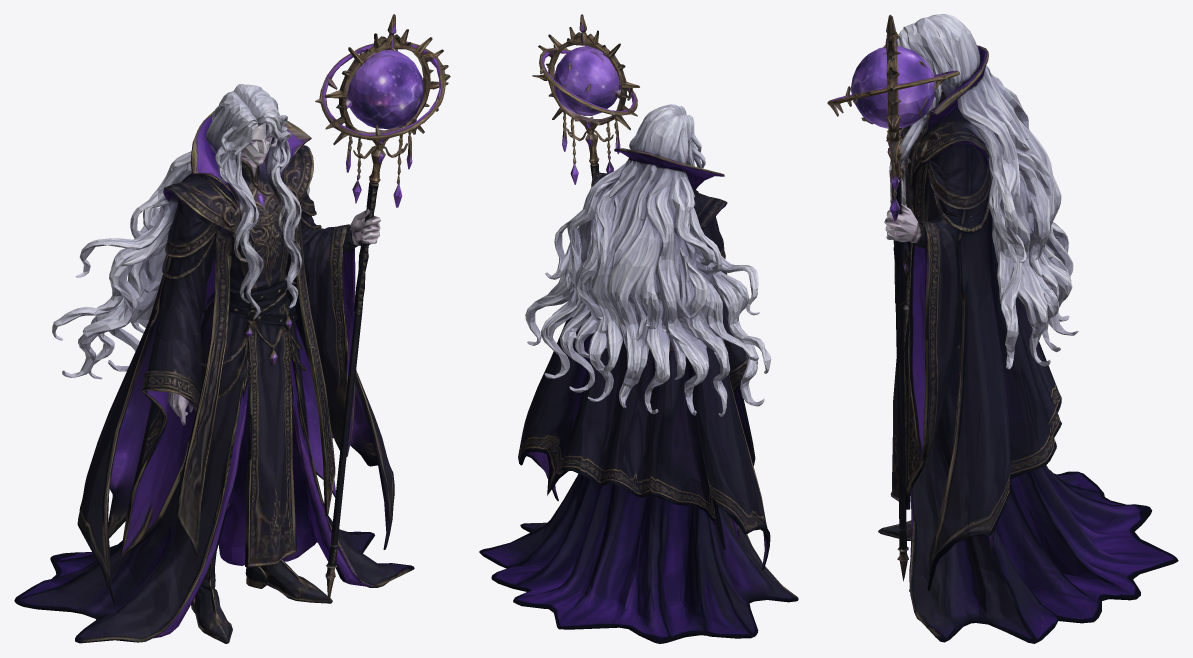
Rendered from mage_game.glb.
3 renders of one model, left to right at view 1: azimuth 30°, elevation 25°; view 2: azimuth 150°, elevation 25°; view 3: azimuth 270°, elevation 25°, orthographic. The views are drawn at different scales.
Visible parts, largest first — view 1: world; view 2: world; view 3: world.
Boxes of the visible parts, x1,y1,x2,y2 form: world: [14, 14, 450, 643]; world: [479, 14, 798, 643]; world: [827, 14, 1178, 643].
Bounding box in the file's own units: 0.6172 × 0.9999 × 0.5236.
Materials: 1 (1 with a texture image).
